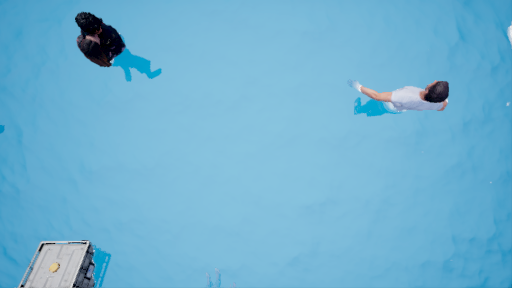person: (73, 14, 168, 84), (347, 79, 475, 117)
